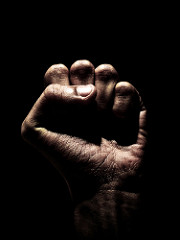fist: (31, 64, 148, 177)
